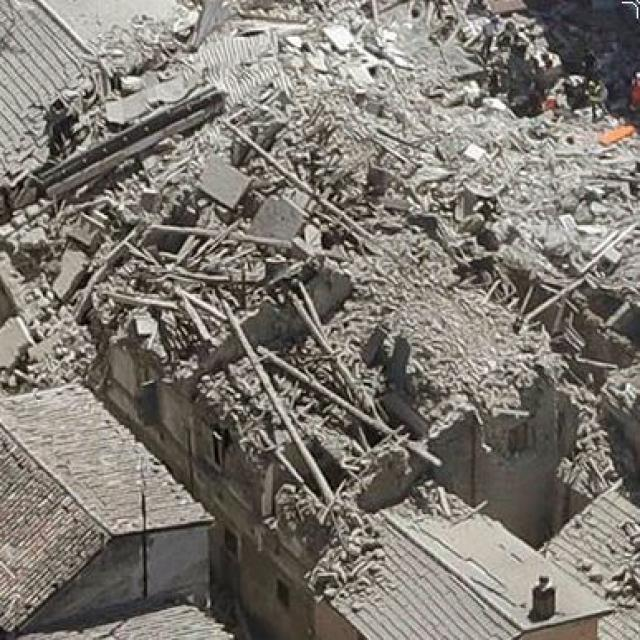collapsed_building: (53, 107, 566, 546)
